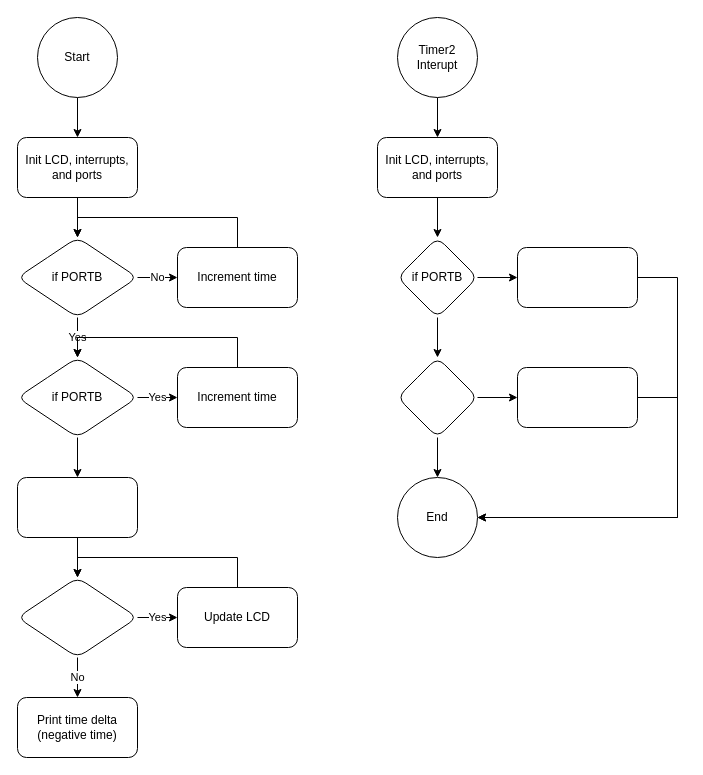
This 703x775 diagram has some shape labels left out. Each missing label, with the centre of its shape:
"if running" goes at point 77,617.
"if time == 0" goes at point 437,397.
"PORTA = 0xFF" goes at point 577,397.
"running = 0" goes at point 577,277.
"running = 1 time = (time % 40000) + 30000 Init timer2" goes at point 77,507.
